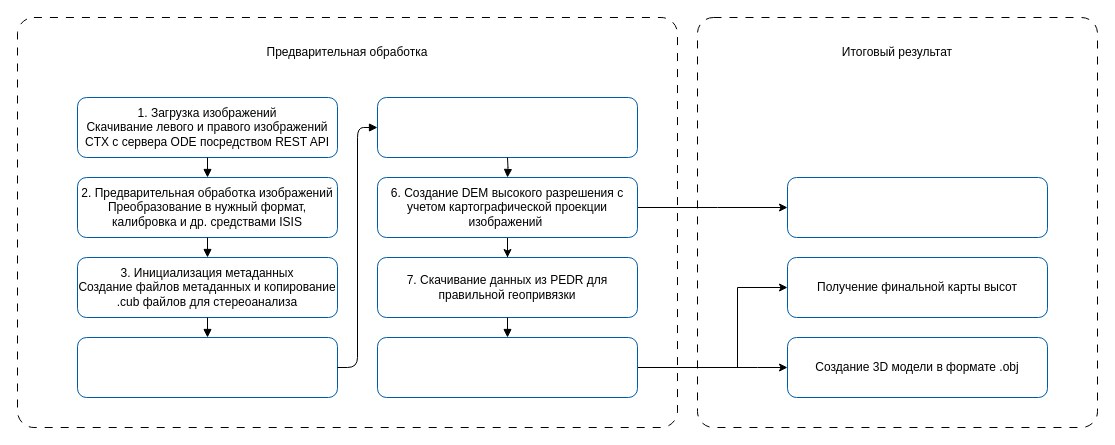
Some shapes in this 1115 by 445 pixel diagram are drawn without their labels. The box of each missing label's shape, as (x1, y1, x2, y2) in pixels:
4. Уточнение положения камеры и спутника для улучшения результата: (76, 336, 338, 398)
5. Создание DEM низкого разрешения: (376, 96, 638, 158)
8. Получение облака точек: (376, 336, 638, 398)
Получение карты рассогласования: (786, 176, 1048, 238)
